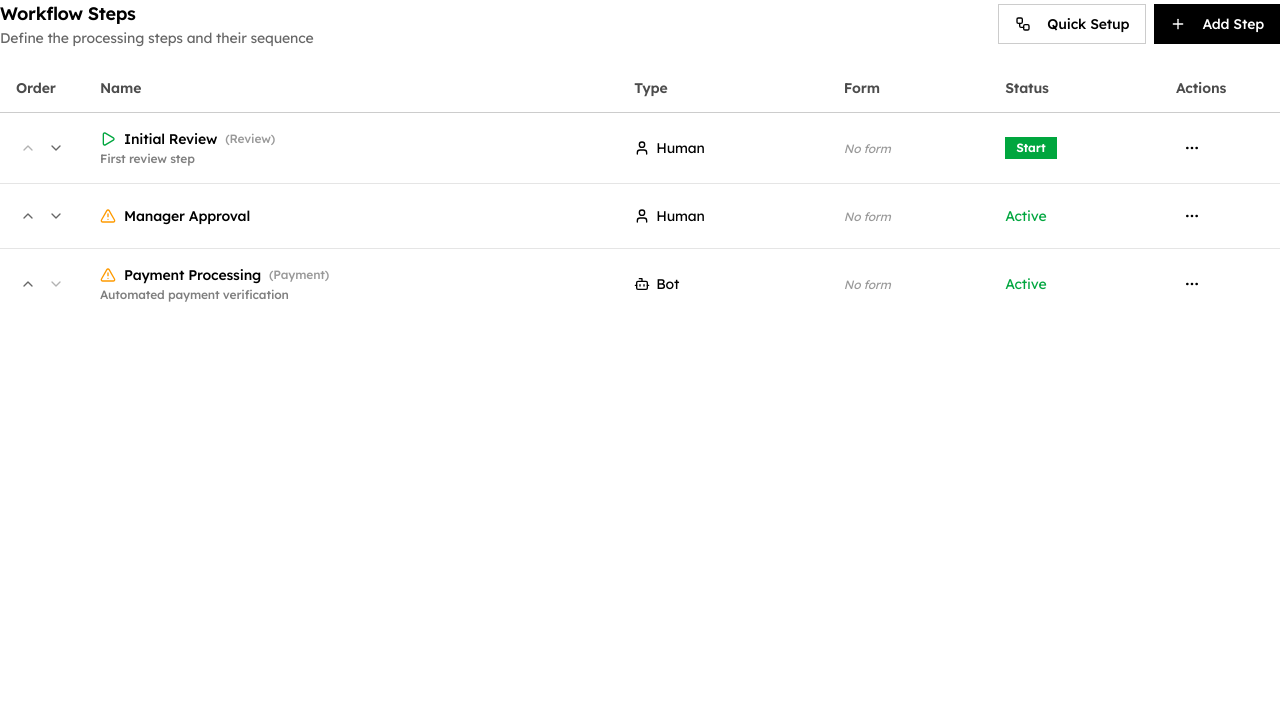
Test case: RolesList › Actions › opens create dialog when Add Step is clicked
This screenshot has width=1280, height=720.
Click the button "Add Step": (1217, 24) 1154,4 -> 1279,44
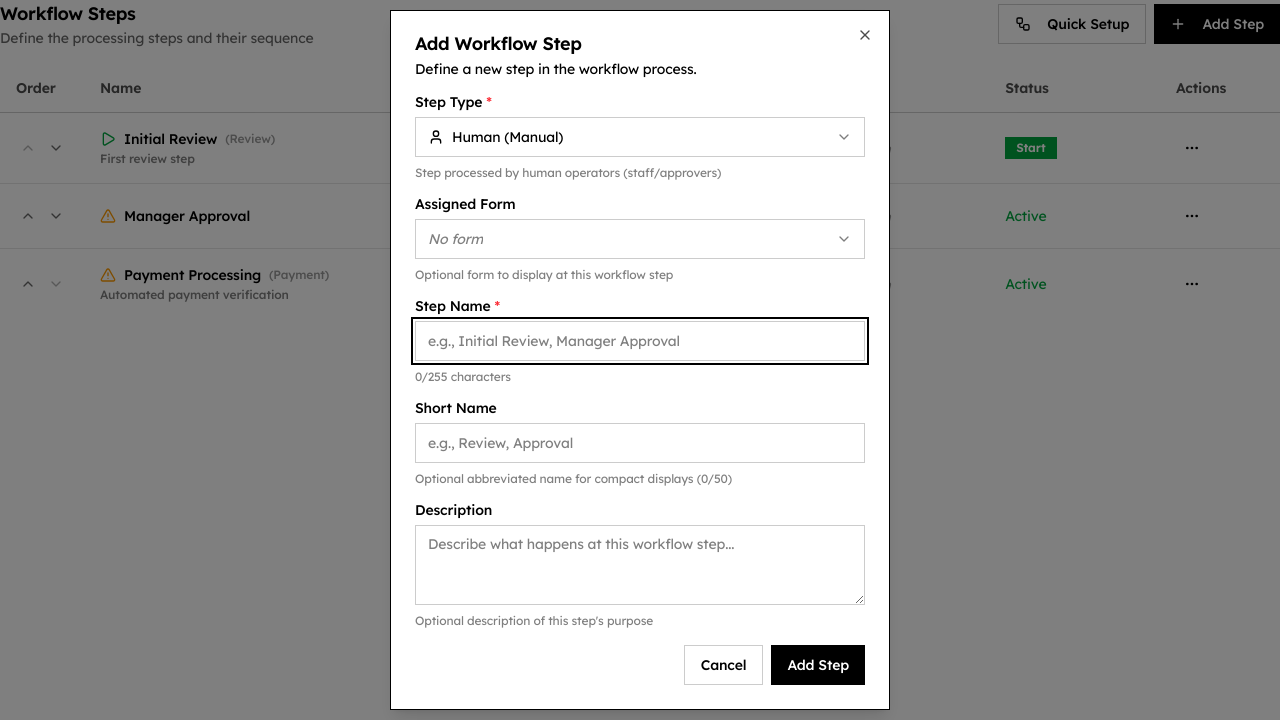
Check: the heading "Add Workflow Step" is shown, box 415,32 -> 582,55
